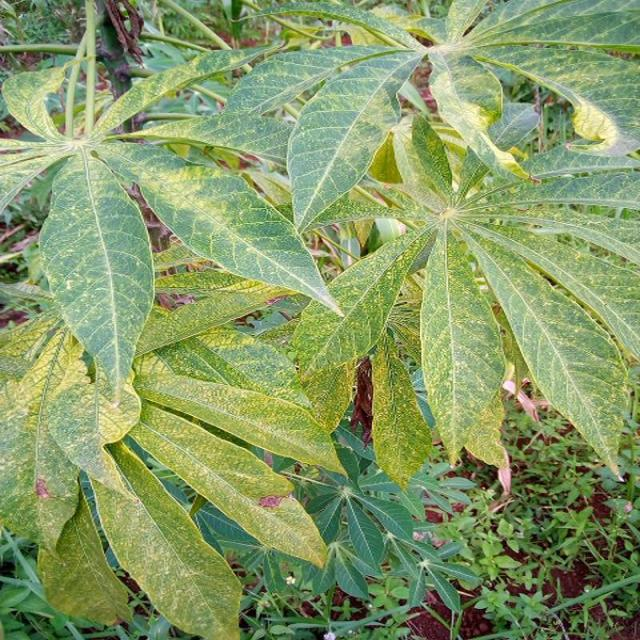cassava leaf: (0, 1, 638, 637), (38, 146, 155, 405)
